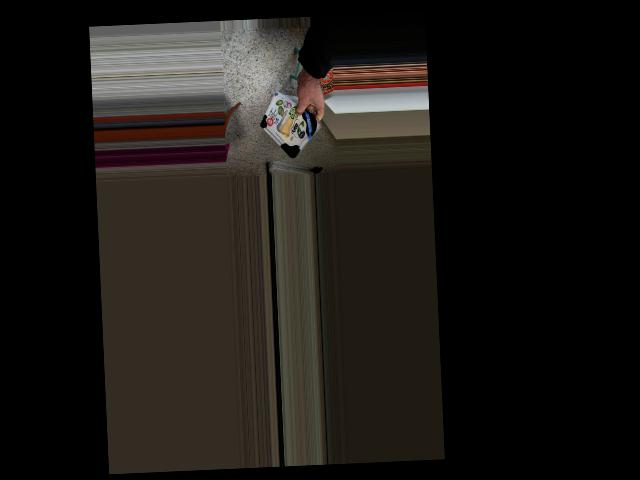cheese: (255, 98, 334, 150)
